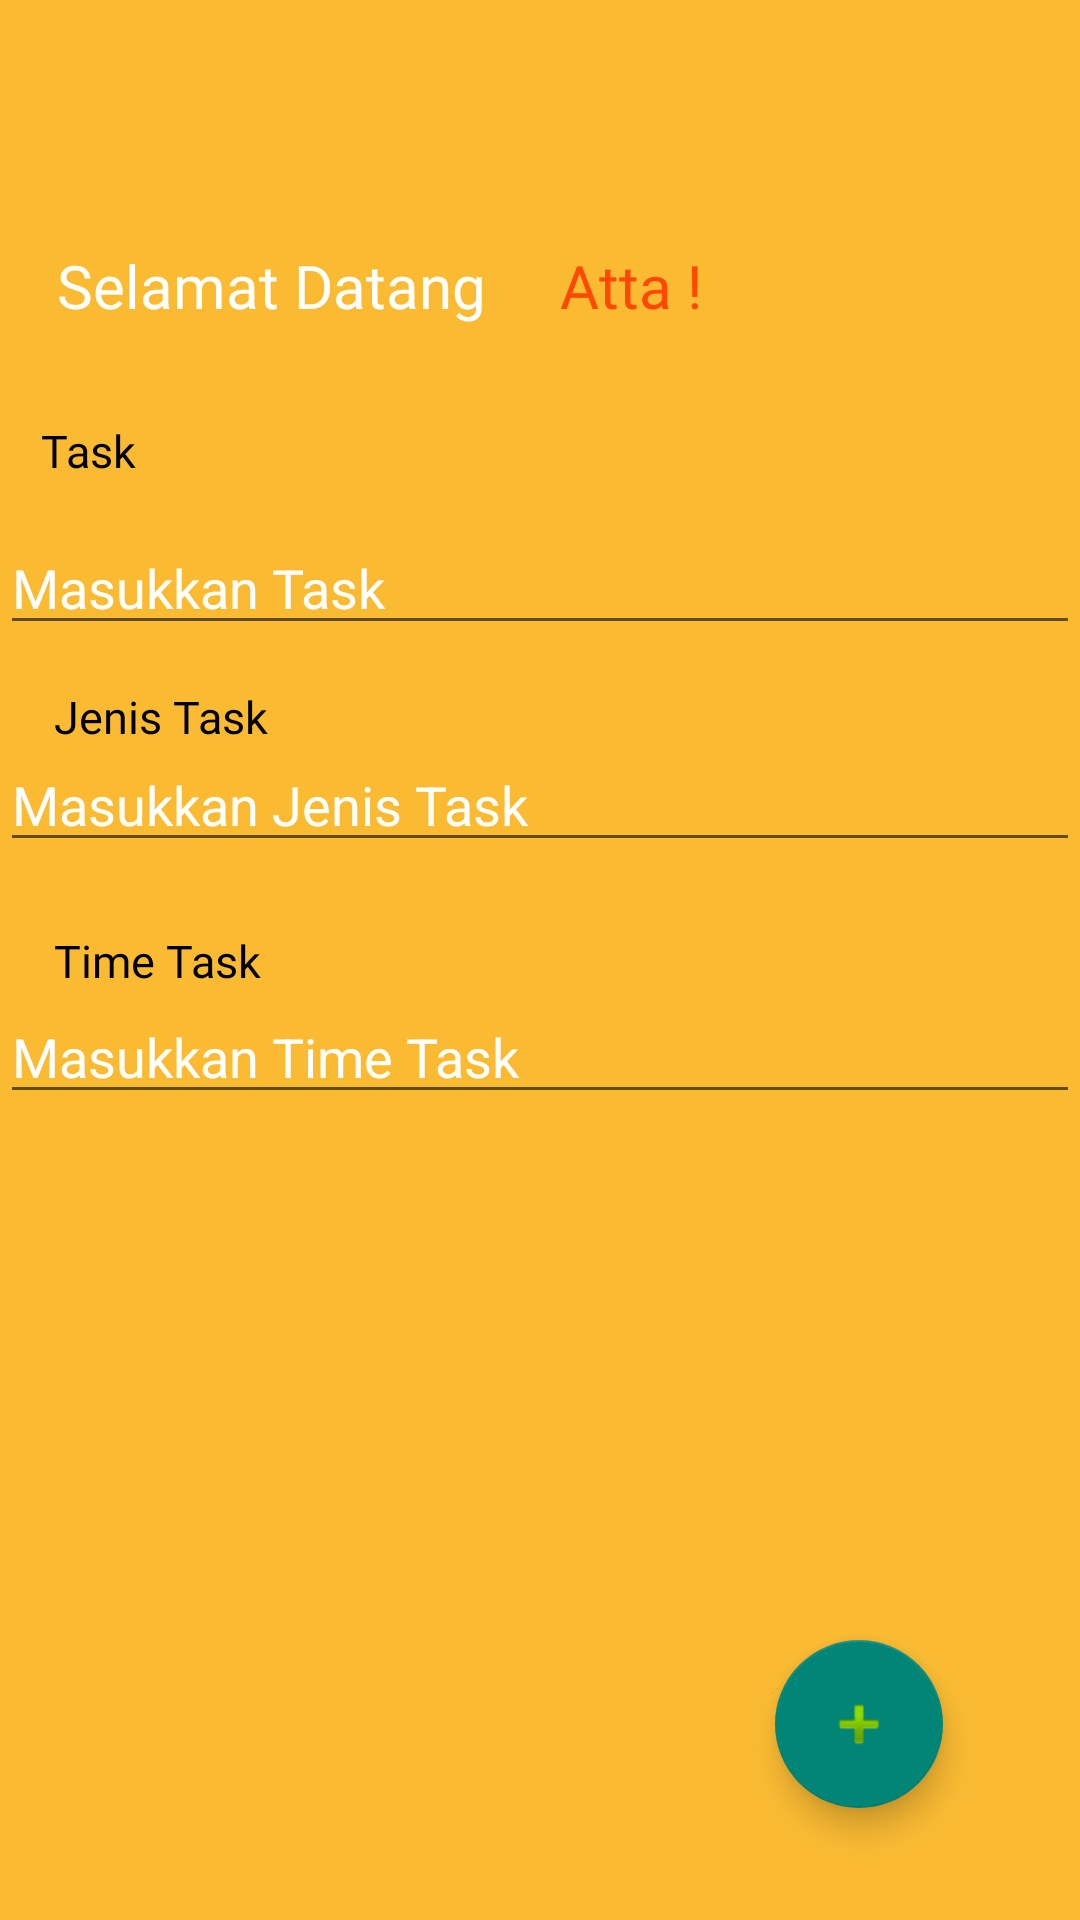

Screen size 1080px×1920px. Icon name, then its center in pixels as [x,y]:
add: [859,1724]
